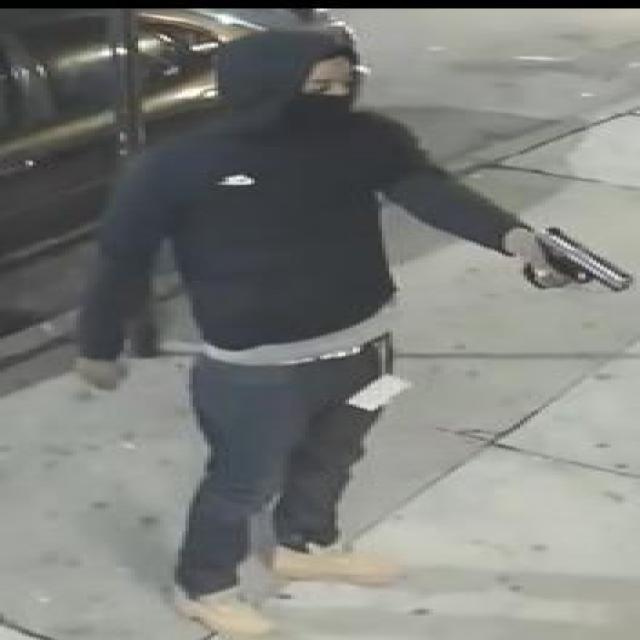Gun: (516, 226, 633, 290)
